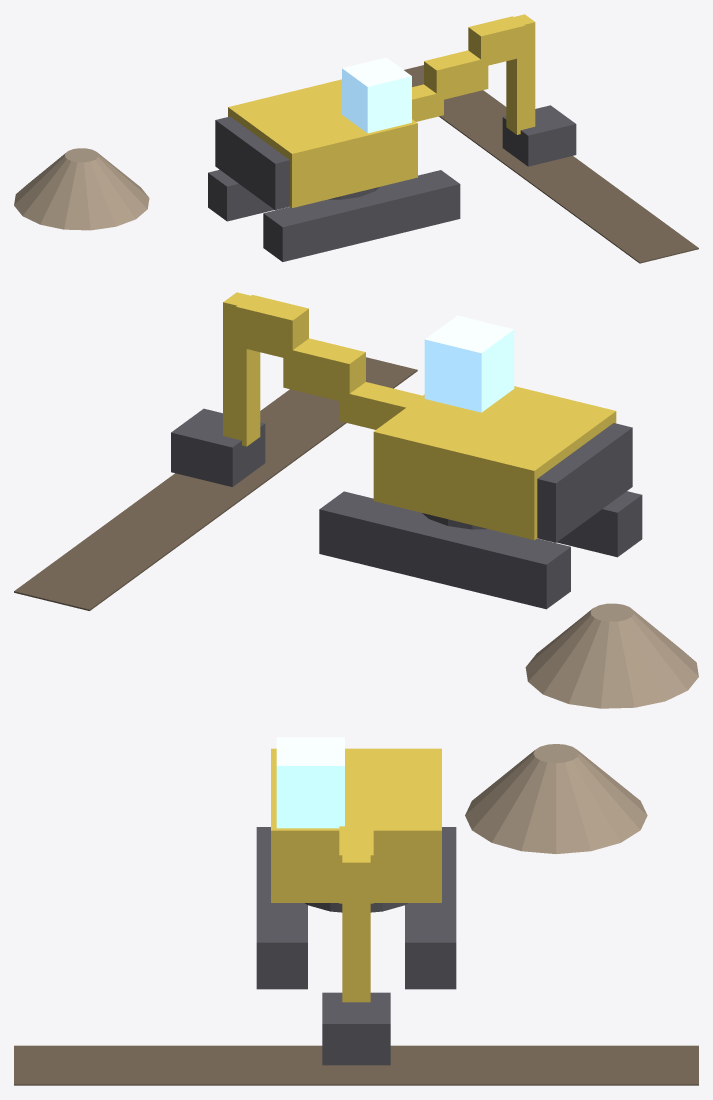
File: wing-robot-excavator-trench.glb
3 views of the same model, one above another, from view 1: azimuth 30°, elevation 25°; view 2: azimuth 150°, elevation 25°; view 3: azimuth 270°, elevation 25° (orthographic). The views are drawn at different scales.
Parts seen in each view (by area): view 1: Robot · excavator; view 2: Robot · excavator; view 3: Robot · excavator.
Part boxes in pixels (box(x1,y1,x2,y2)): Robot · excavator: box(14, 14, 698, 263); Robot · excavator: box(14, 292, 698, 708); Robot · excavator: box(14, 737, 698, 1085).
Size of the model in its own units: 12.8 by 3.8 by 12.
